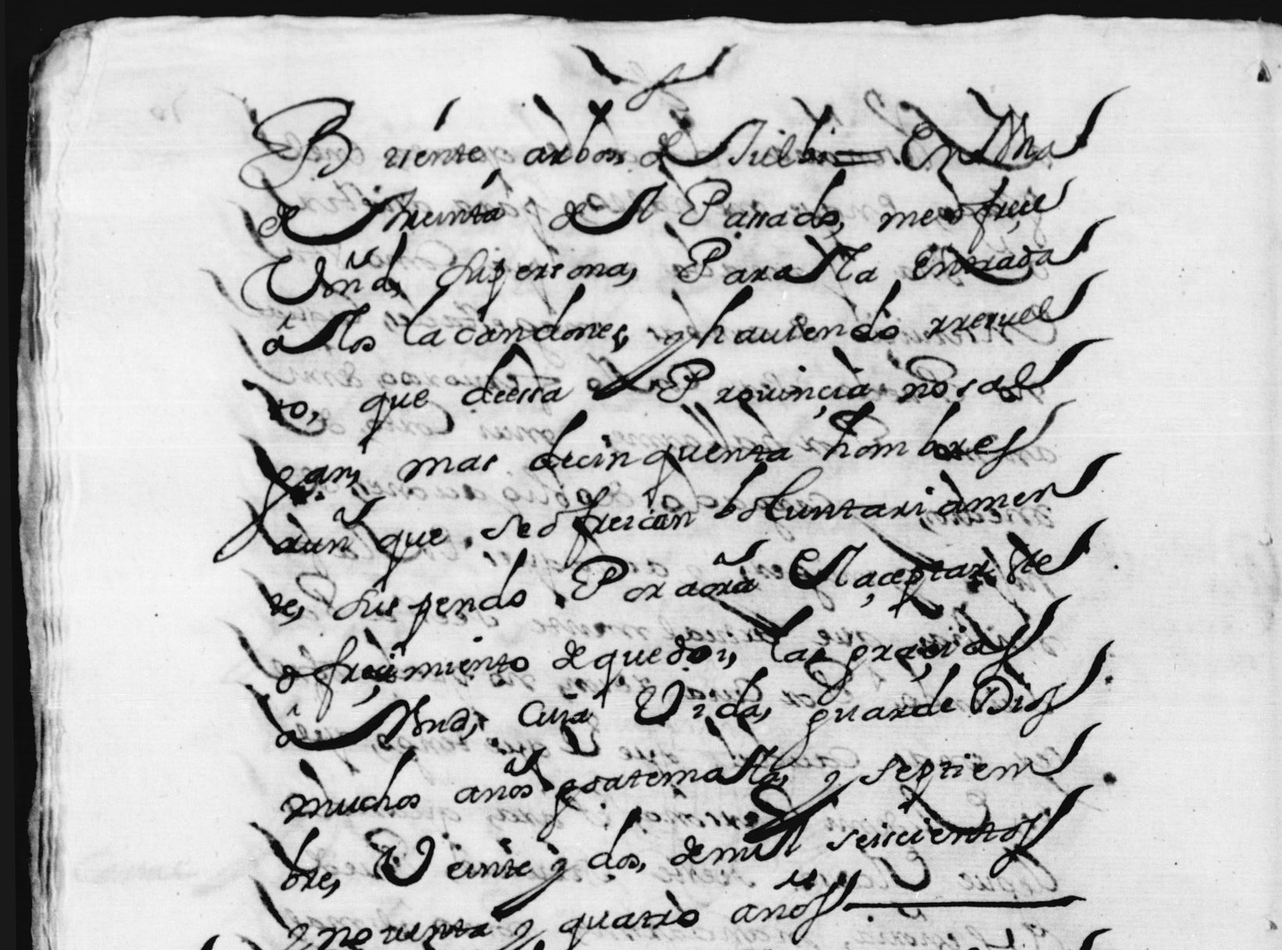lacandon: (404, 283, 627, 346)
